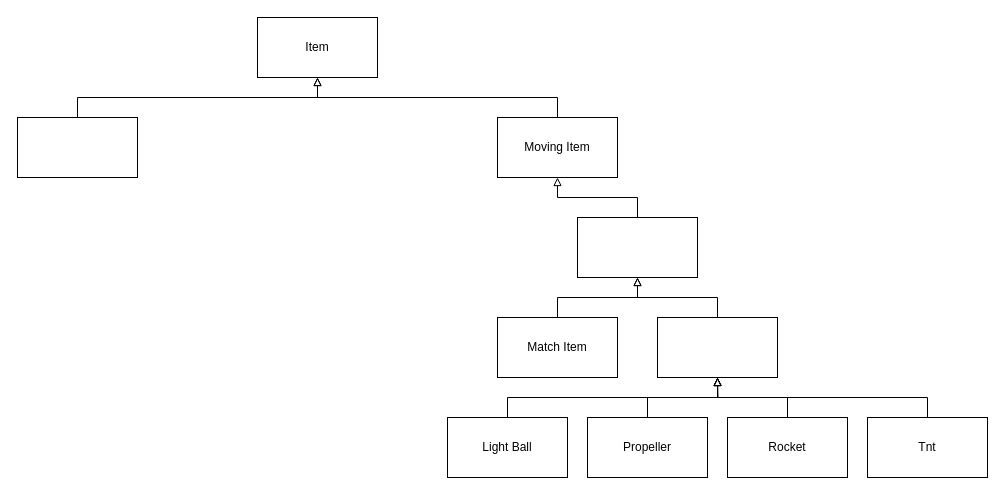
The diagram is 1005 pixels wide and 495 high, and some of its shapes have lost their labels. The centre of each missing label's shape, as x and y in pixels:
"Interactive Slidable Item" belongs at point 637,247.
"Power Up Item" belongs at point 717,347.
"Steady Item" belongs at point 77,147.
